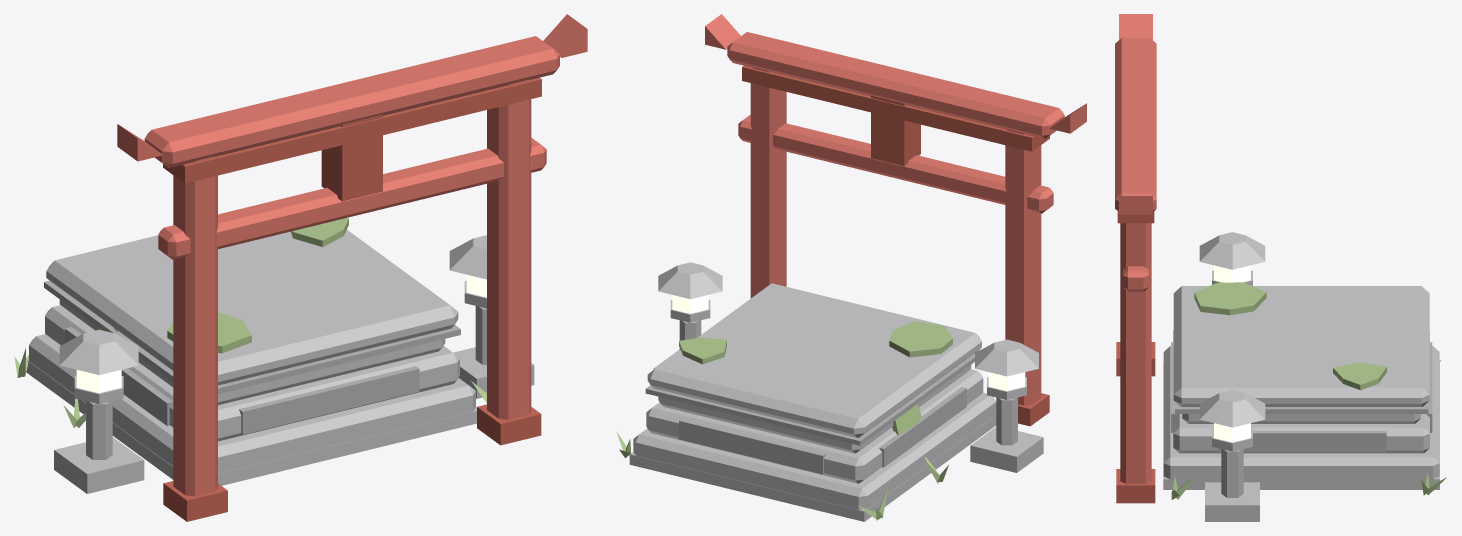
Rendered from Kabuto_Seat.fbx.
3 renders of one model, left to right at view 1: azimuth 30°, elevation 25°; view 2: azimuth 150°, elevation 25°; view 3: azimuth 270°, elevation 25°, orthographic. The views are drawn at different scales.
Visible parts, largest first — view 1: KabutoSeat_Pedestal_Stone, KabutoSeat_Torii_Rope, KabutoSeat_ToriiTrim_RopeDark, KabutoSeat_PedestalDark_StoneDark, KabutoSeat_Lantern_L_Stone, KabutoSeat_Lantern_R_Stone, KabutoSeat_Moss_Moss, KabutoSeat_Glow_L_Lantern; view 2: KabutoSeat_Pedestal_Stone, KabutoSeat_Torii_Rope, KabutoSeat_PedestalDark_StoneDark, KabutoSeat_ToriiTrim_RopeDark, KabutoSeat_Lantern_L_Stone, KabutoSeat_Moss_Moss, KabutoSeat_Lantern_R_Stone, KabutoSeat_Grass_Grass, KabutoSeat_Glow_L_Lantern, KabutoSeat_Glow_R_Lantern; view 3: KabutoSeat_Pedestal_Stone, KabutoSeat_Torii_Rope, KabutoSeat_Lantern_R_Stone, KabutoSeat_PedestalDark_StoneDark, KabutoSeat_Moss_Moss, KabutoSeat_Lantern_L_Stone, KabutoSeat_ToriiTrim_RopeDark, KabutoSeat_Glow_R_Lantern, KabutoSeat_Glow_L_Lantern, KabutoSeat_Grass_Grass.
Boxes of the visible parts, box(x1,y1,x2,y2) form: KabutoSeat_Pedestal_Stone: box(25, 230, 476, 485); KabutoSeat_Torii_Rope: box(117, 14, 587, 496); KabutoSeat_ToriiTrim_RopeDark: box(163, 77, 541, 521); KabutoSeat_PedestalDark_StoneDark: box(44, 280, 460, 434); KabutoSeat_Lantern_L_Stone: box(54, 329, 144, 493); KabutoSeat_Lantern_R_Stone: box(449, 235, 534, 398); KabutoSeat_Moss_Moss: box(95, 218, 348, 353); KabutoSeat_Glow_L_Lantern: box(76, 370, 121, 393); KabutoSeat_Pedestal_Stone: box(629, 283, 996, 521); KabutoSeat_Torii_Rope: box(705, 14, 1086, 405); KabutoSeat_PedestalDark_StoneDark: box(645, 349, 980, 474); KabutoSeat_ToriiTrim_RopeDark: box(742, 65, 1049, 426); KabutoSeat_Lantern_L_Stone: box(970, 339, 1043, 472); KabutoSeat_Moss_Moss: box(679, 321, 952, 434); KabutoSeat_Lantern_R_Stone: box(653, 262, 722, 369); KabutoSeat_Grass_Grass: box(616, 431, 948, 520); KabutoSeat_Glow_L_Lantern: box(988, 372, 1025, 390); KabutoSeat_Glow_R_Lantern: box(672, 295, 708, 313); KabutoSeat_Pedestal_Stone: box(1163, 286, 1439, 489); KabutoSeat_Torii_Rope: box(1115, 14, 1156, 483); KabutoSeat_Lantern_R_Stone: box(1199, 390, 1265, 521); KabutoSeat_PedestalDark_StoneDark: box(1171, 342, 1432, 452); KabutoSeat_Moss_Moss: box(1194, 282, 1386, 390); KabutoSeat_Lantern_L_Stone: box(1199, 232, 1265, 285); KabutoSeat_ToriiTrim_RopeDark: box(1116, 211, 1155, 503); KabutoSeat_Glow_R_Lantern: box(1214, 423, 1250, 442); KabutoSeat_Glow_L_Lantern: box(1214, 265, 1250, 282); KabutoSeat_Grass_Grass: box(1171, 360, 1446, 499).
Bounding box in the file's own units: 6.88 × 5.53 × 5.1.
